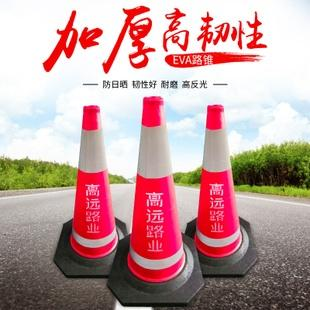cone_barrel: (122, 99, 192, 292), (61, 110, 123, 266), (190, 108, 248, 265)
